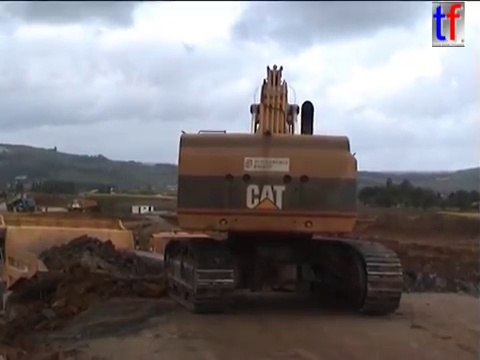excavator: (157, 60, 408, 318)
truck: (1, 213, 215, 360), (145, 226, 234, 298), (64, 197, 100, 217)
